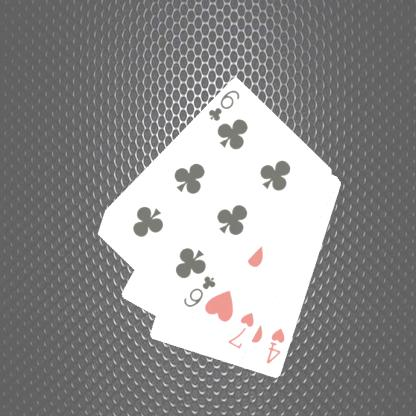4H: (264, 326, 286, 366)
6C: (180, 273, 218, 309), (205, 87, 241, 123)
7H: (225, 309, 256, 351)
